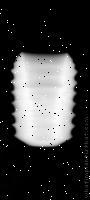Cowellmedi: (9, 52, 77, 152)
